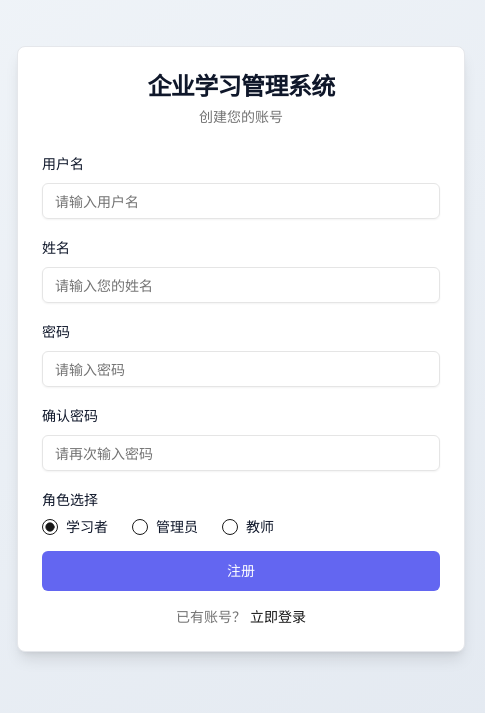
Test: Register Page Redesign › Form Submission › displays error message on failed registration
In the field with placeholder "请输入用户名": (241, 201) [42, 183, 440, 219], type "existinguser"
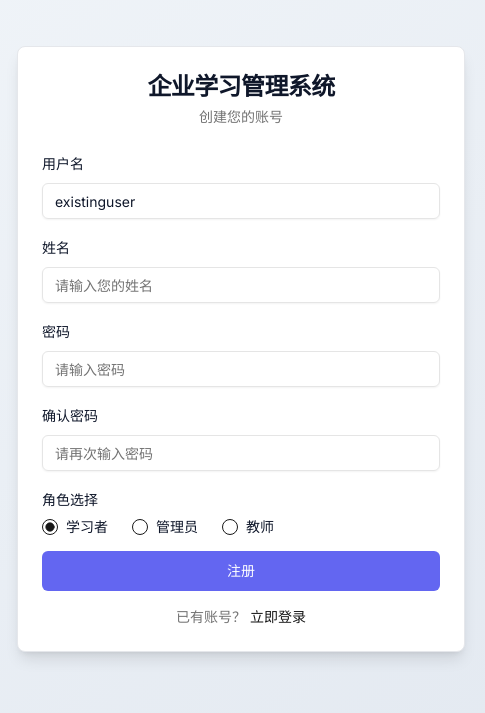
In the field with placeholder "请输入您的姓名": (241, 285) [42, 267, 440, 303], type "测试用户"
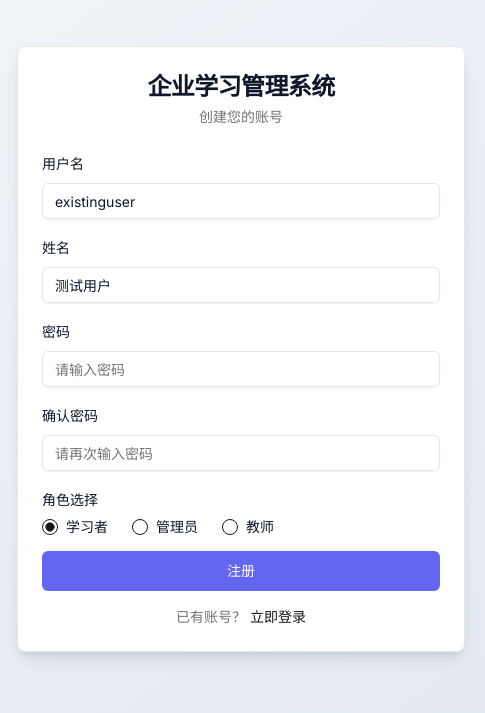
In the password field with placeholder "请输入密码": (241, 369) [42, 351, 440, 387], type "password123"
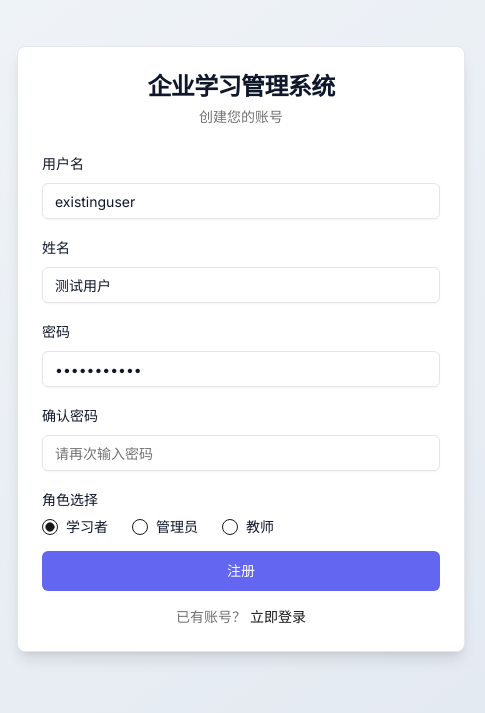
In the password field with placeholder "请再次输入密码": (241, 453) [42, 435, 440, 471], type "password123"
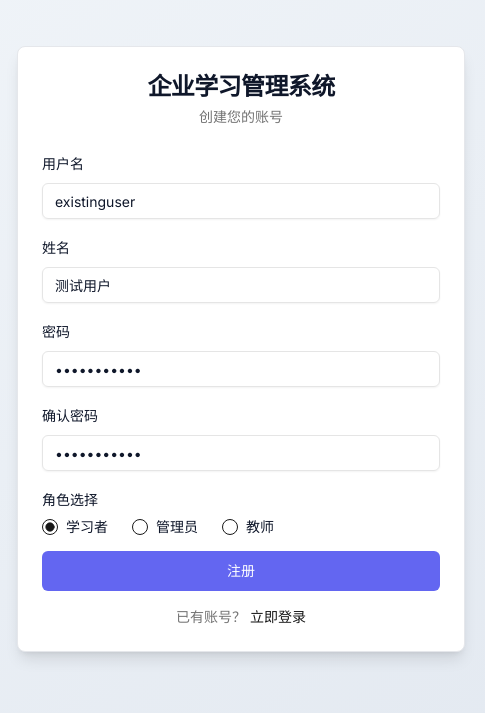
Click the button "注册": (241, 571) [42, 551, 440, 591]
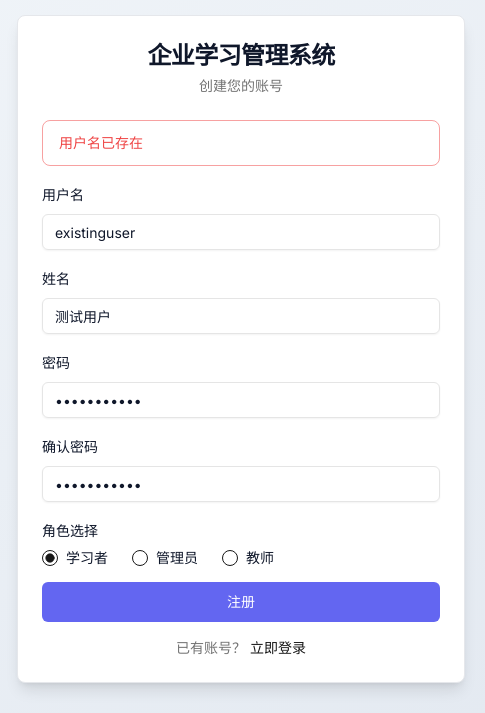
expect the text "用户名已存在" is shown: met, box [59, 134, 143, 151]
